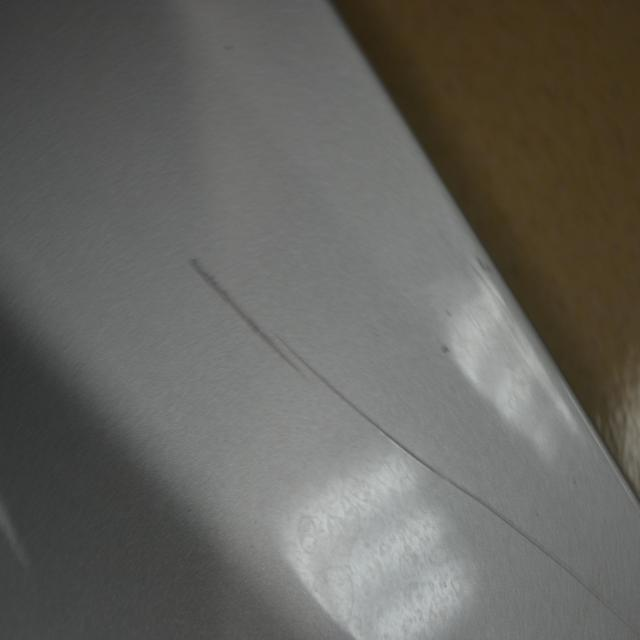dirt: (441, 339, 453, 356)
scratch: (268, 323, 638, 631), (188, 252, 302, 382)
